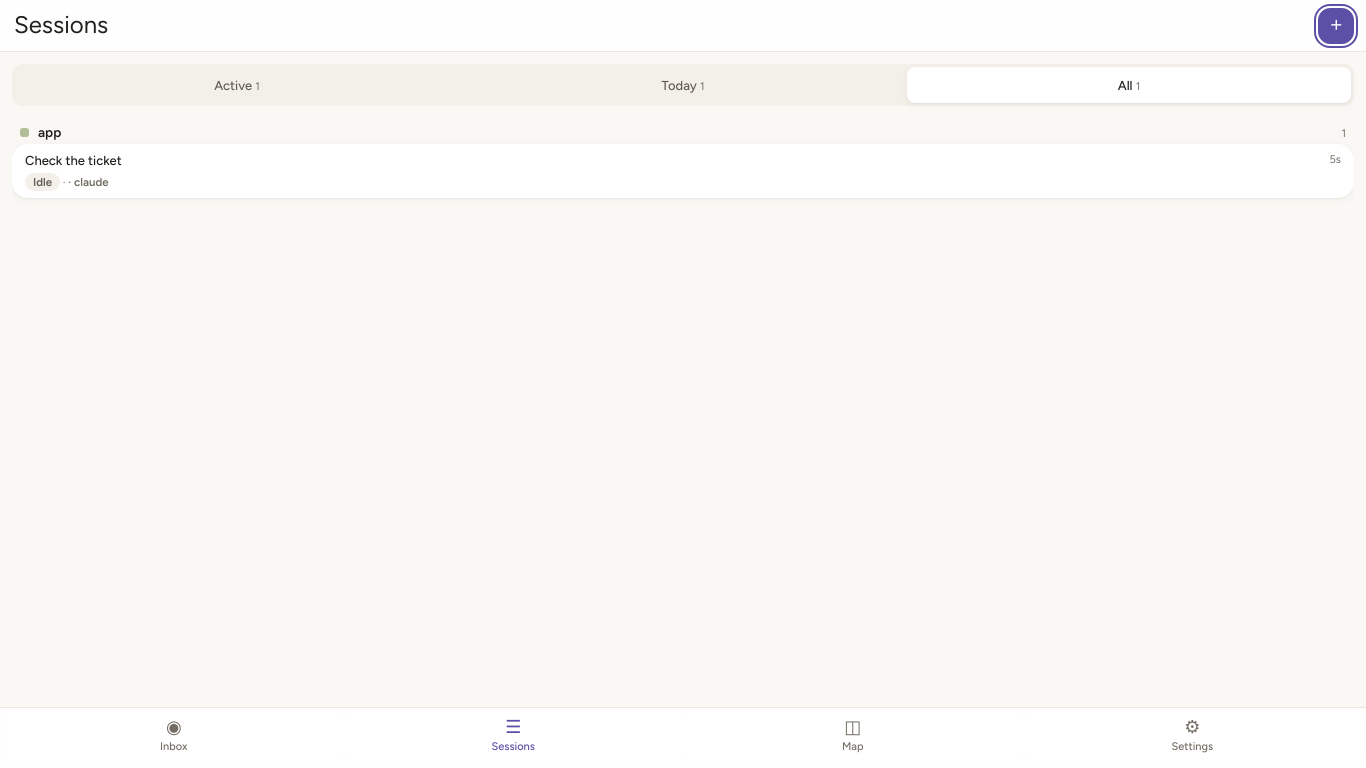
Scenario: phone shell › Launch opens as a sheet and Escape closes it, back on the button
Click the button named "Launch session": (1336, 26) [1318,8,1354,44]
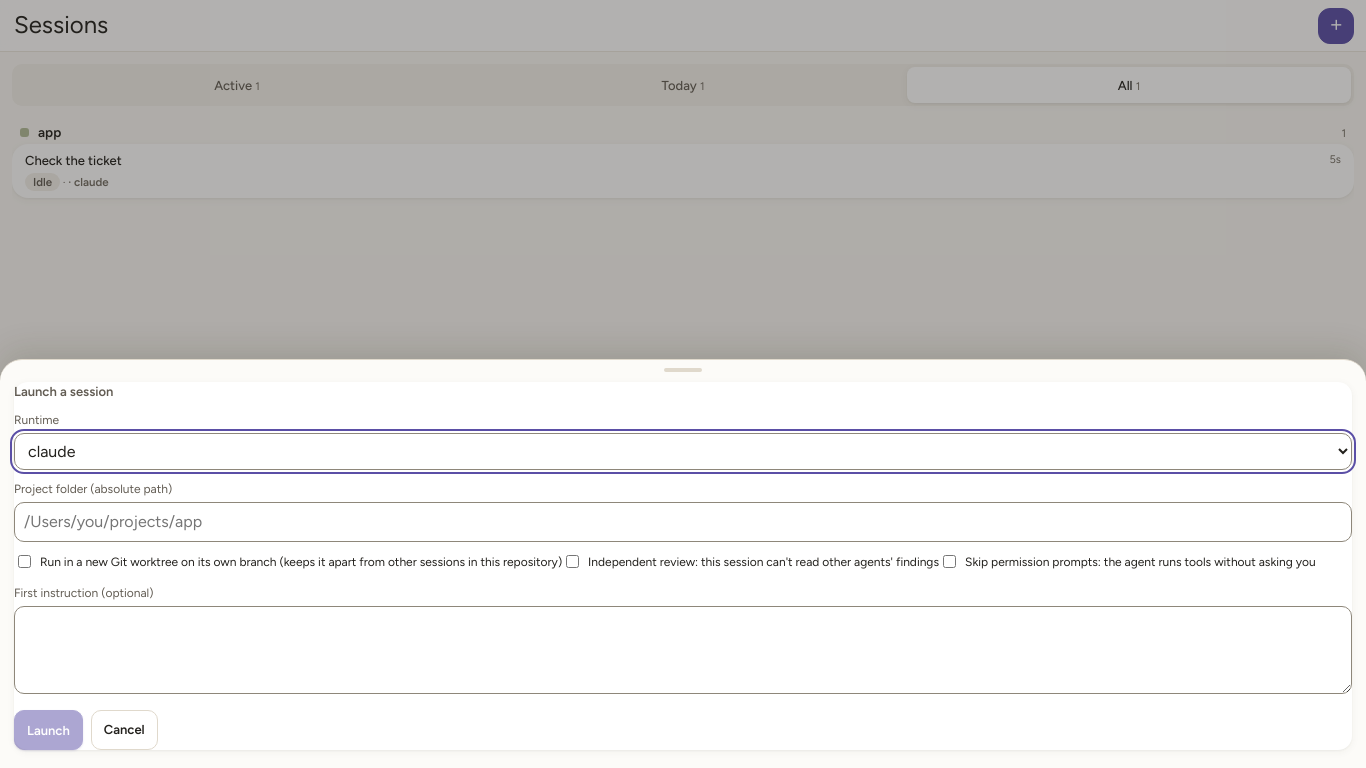
Check: the dialog "Launch a session" is shown, box [0,358,1365,767]
Press Escape
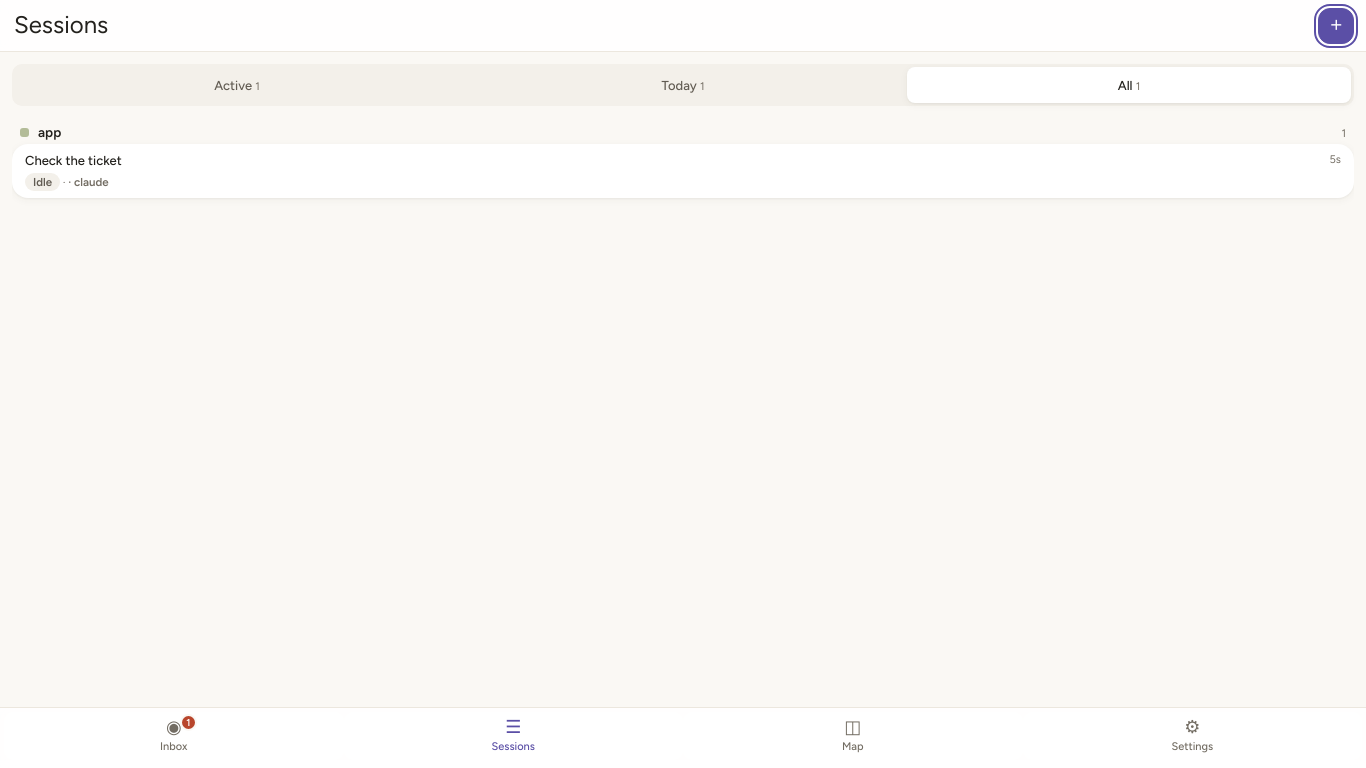
Check: the dialog is gone
